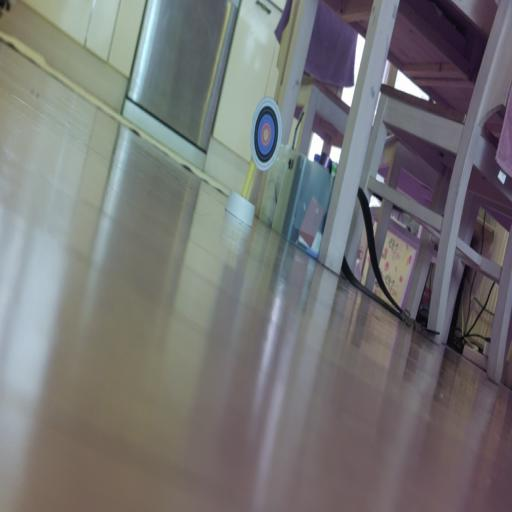target: (251, 99, 282, 171)
